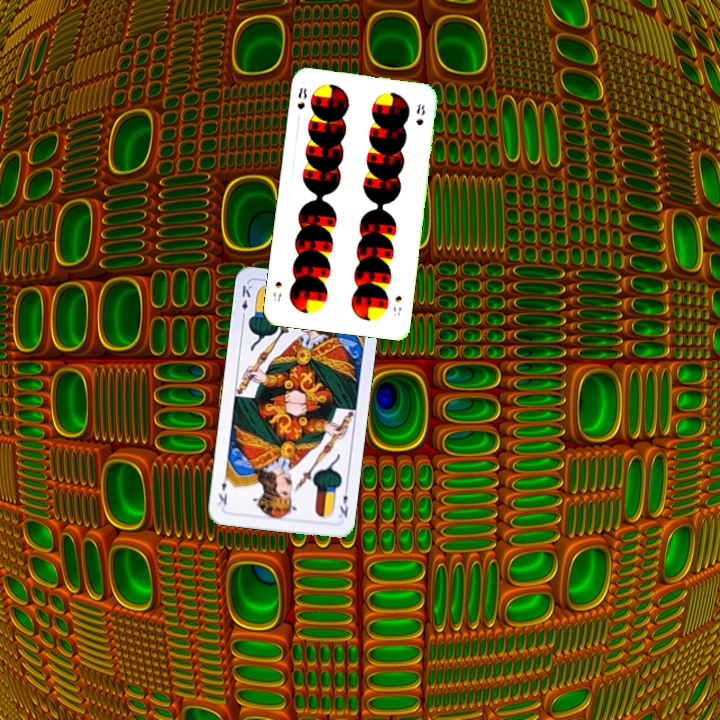EK: (238, 281, 254, 321), (335, 483, 351, 520)
S8: (293, 84, 309, 112), (389, 291, 404, 319)
